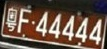F: (17, 8, 31, 33)
